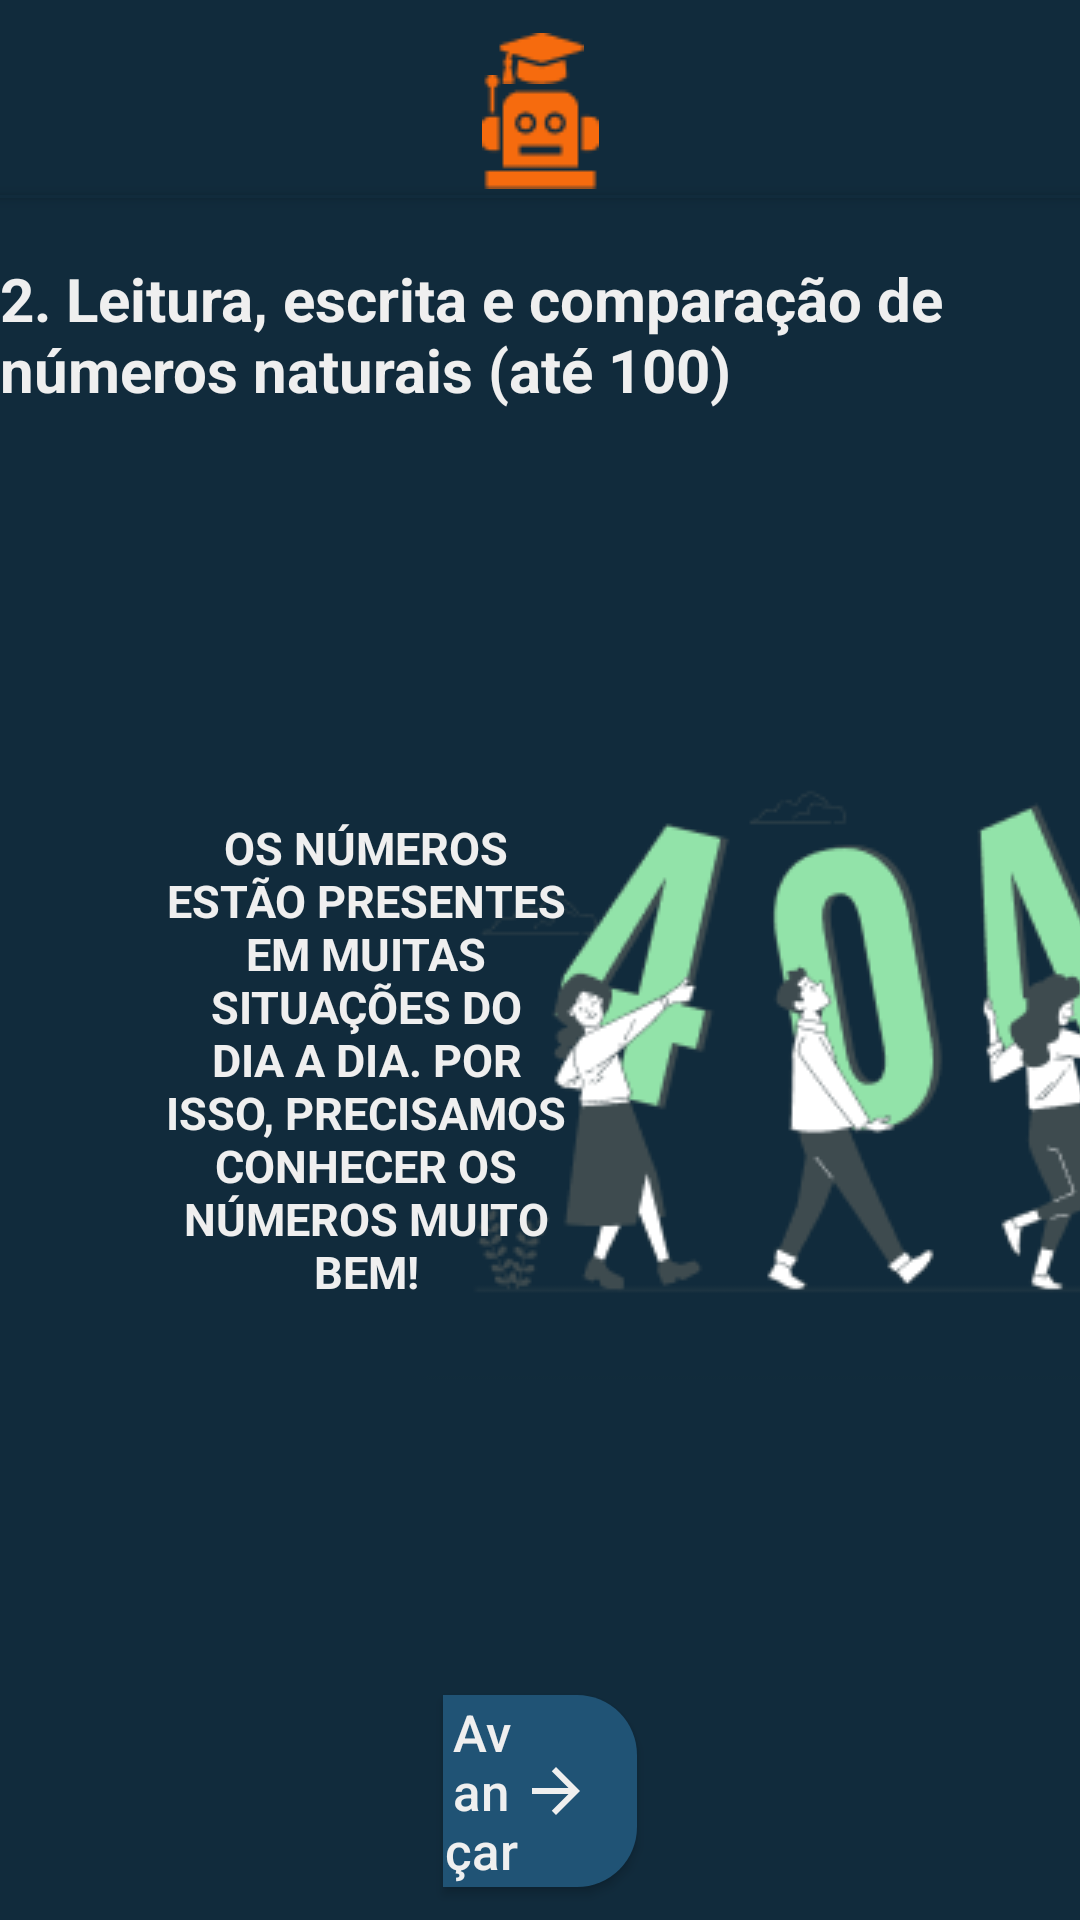

Point at icon controls on the screen. Image size 1080×1920, points as (x=x, y=y).
cap: (x=541, y=58)
minirobot: (x=540, y=132)
